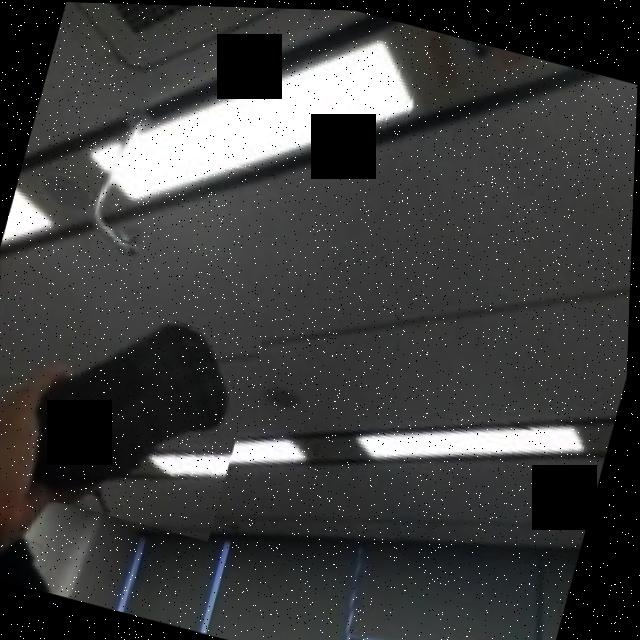shoe: (0, 251, 273, 541)
